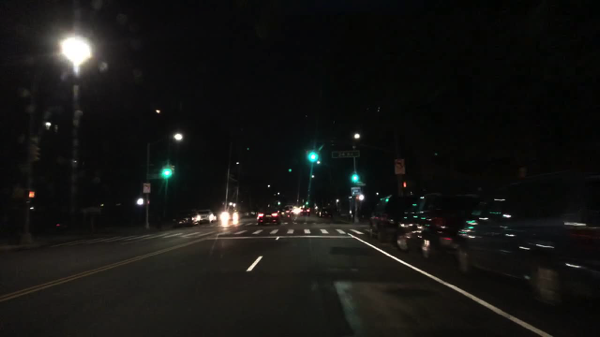car: (455, 168, 599, 307), (396, 193, 482, 260), (367, 194, 420, 242), (172, 210, 200, 228), (257, 209, 281, 225), (219, 209, 240, 223), (198, 209, 214, 225), (316, 207, 330, 218), (299, 206, 311, 218), (279, 209, 290, 219), (286, 206, 294, 213), (213, 213, 218, 222), (293, 208, 300, 213), (315, 209, 319, 216)
traffic light: (33, 144, 40, 161), (308, 152, 318, 162), (162, 169, 171, 177), (137, 198, 145, 205), (28, 191, 35, 198), (171, 164, 175, 175), (352, 175, 358, 182), (402, 180, 407, 187)
traffic sign: (331, 151, 359, 158), (394, 158, 405, 175), (147, 174, 162, 179), (143, 184, 150, 194), (351, 187, 360, 194)
